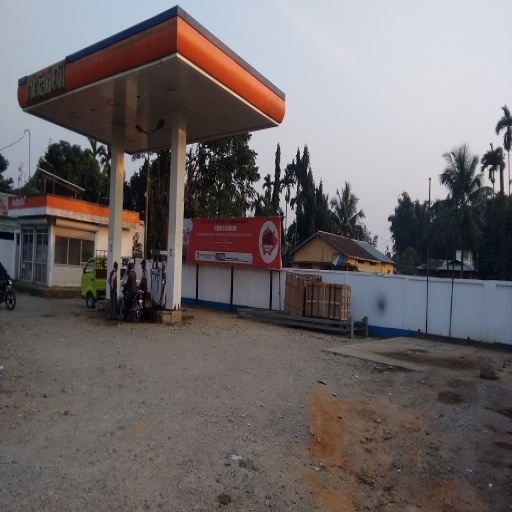roof: (15, 8, 285, 163)
